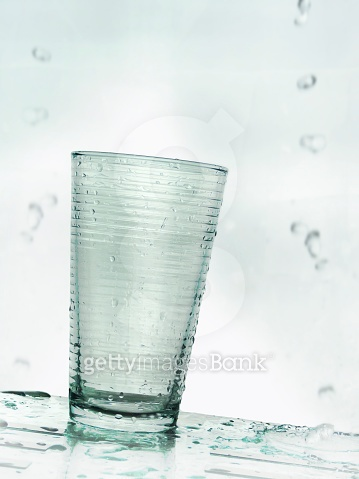glass of water: (50, 141, 231, 438)
